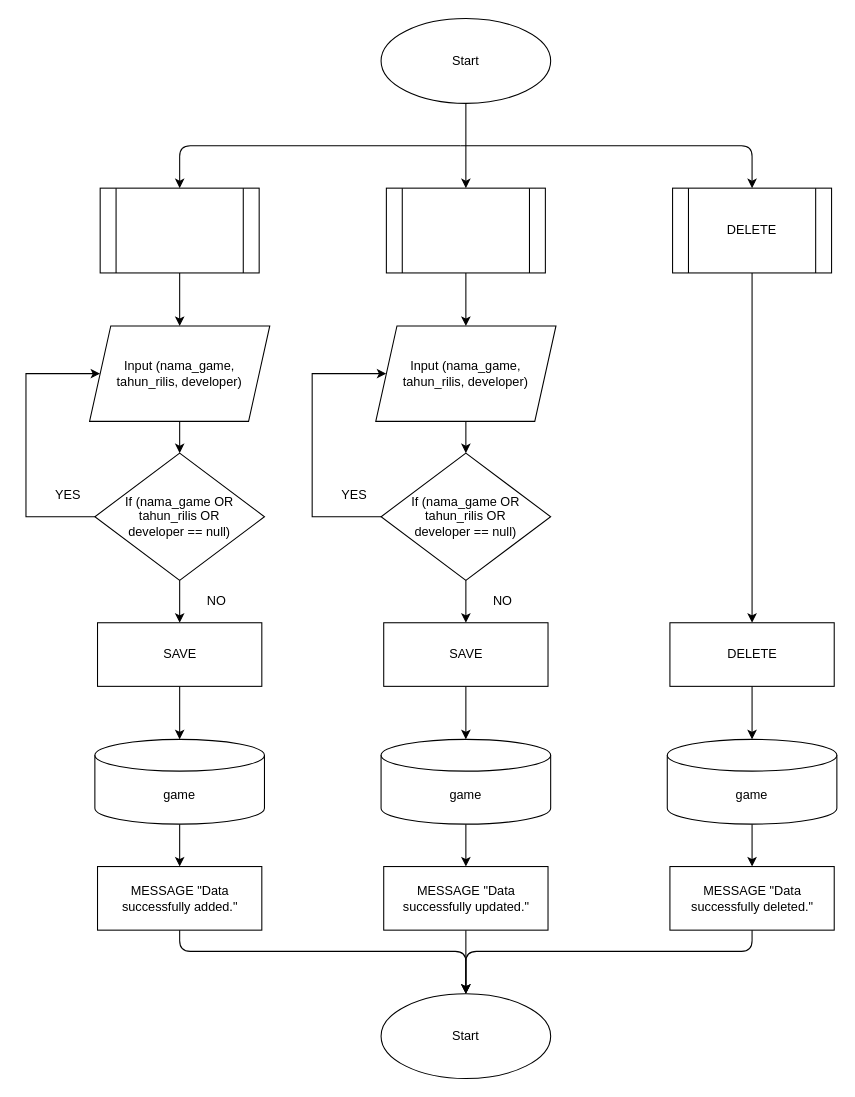
Some shapes in this 855 by 1097 pixel diagram are drawn without their labels. The shapes that lost their labels are listed below. From the top down, each one's centre as x and y in pixels, then its label:
At [179,230]: "INSERT".
At [465,230]: "UPDATE".
